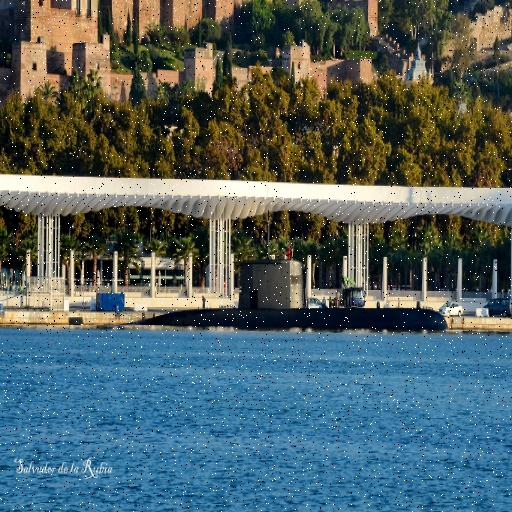submarine: (111, 257, 458, 328)
